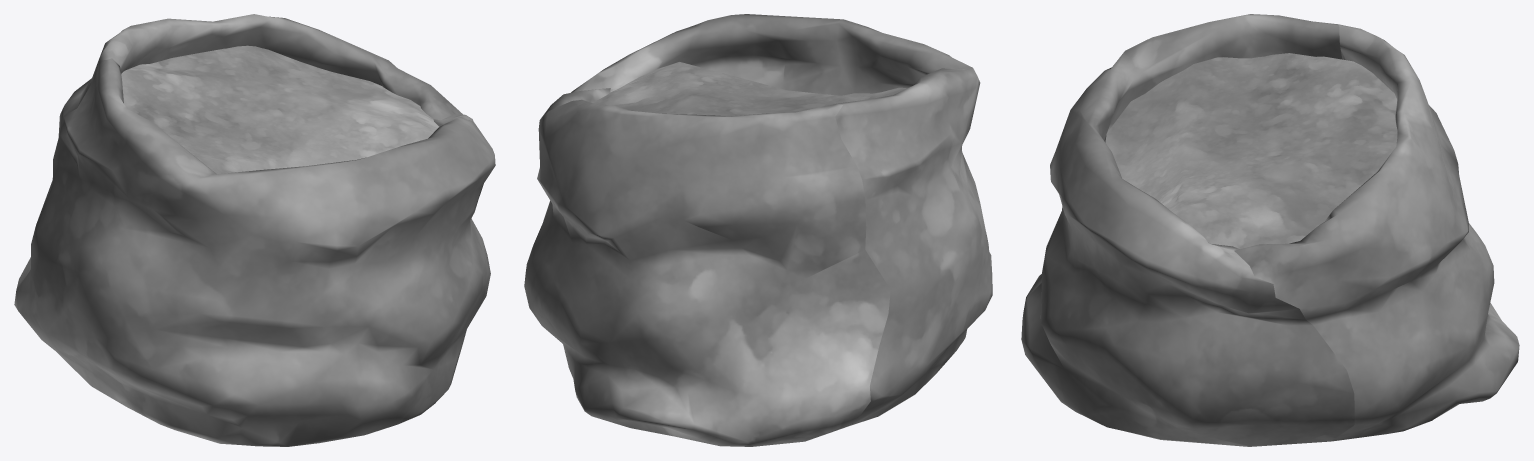
File: SM_FoodSac_02b.fbx
3 renders of one model, left to right at view 1: azimuth 30°, elevation 25°; view 2: azimuth 150°, elevation 25°; view 3: azimuth 270°, elevation 25°, orthographic. The views are drawn at different scales.
Parts seen in each view (by area): view 1: SM_FoodSac_02b_LOD0; view 2: SM_FoodSac_02b_LOD0; view 3: SM_FoodSac_02b_LOD0.
Boxes of the visible parts, box(x1,y1,x2,y2) form: SM_FoodSac_02b_LOD0: box(14, 14, 495, 446); SM_FoodSac_02b_LOD0: box(524, 14, 992, 446); SM_FoodSac_02b_LOD0: box(1021, 14, 1519, 446).
Size of the model in its own units: 54.19 by 59.62 by 40.05.
